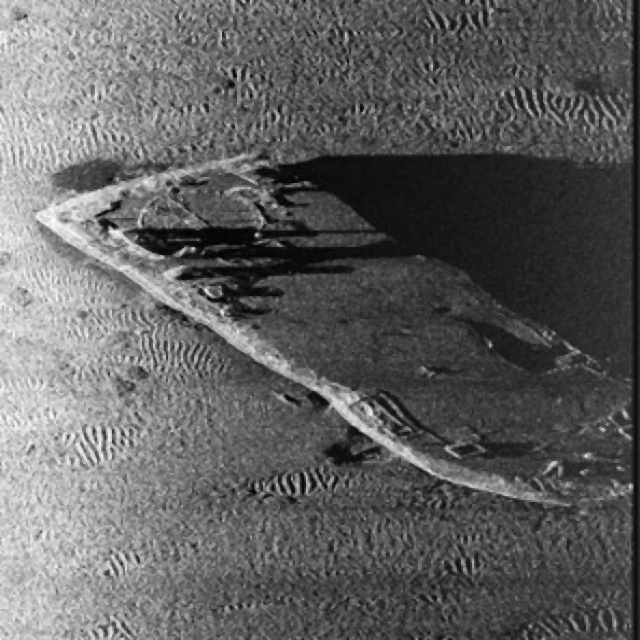Ship: (30, 136, 635, 544)
